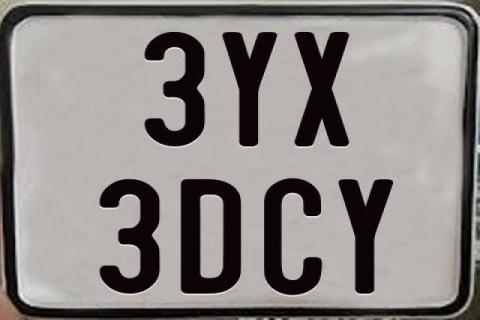0: (142, 30, 208, 150), (97, 179, 159, 295)
C: (261, 178, 324, 296)
D: (179, 179, 240, 297)
X: (294, 32, 355, 149)
Y: (219, 32, 278, 150), (337, 178, 392, 296)
